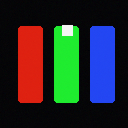1 square: (62, 25, 72, 35)
